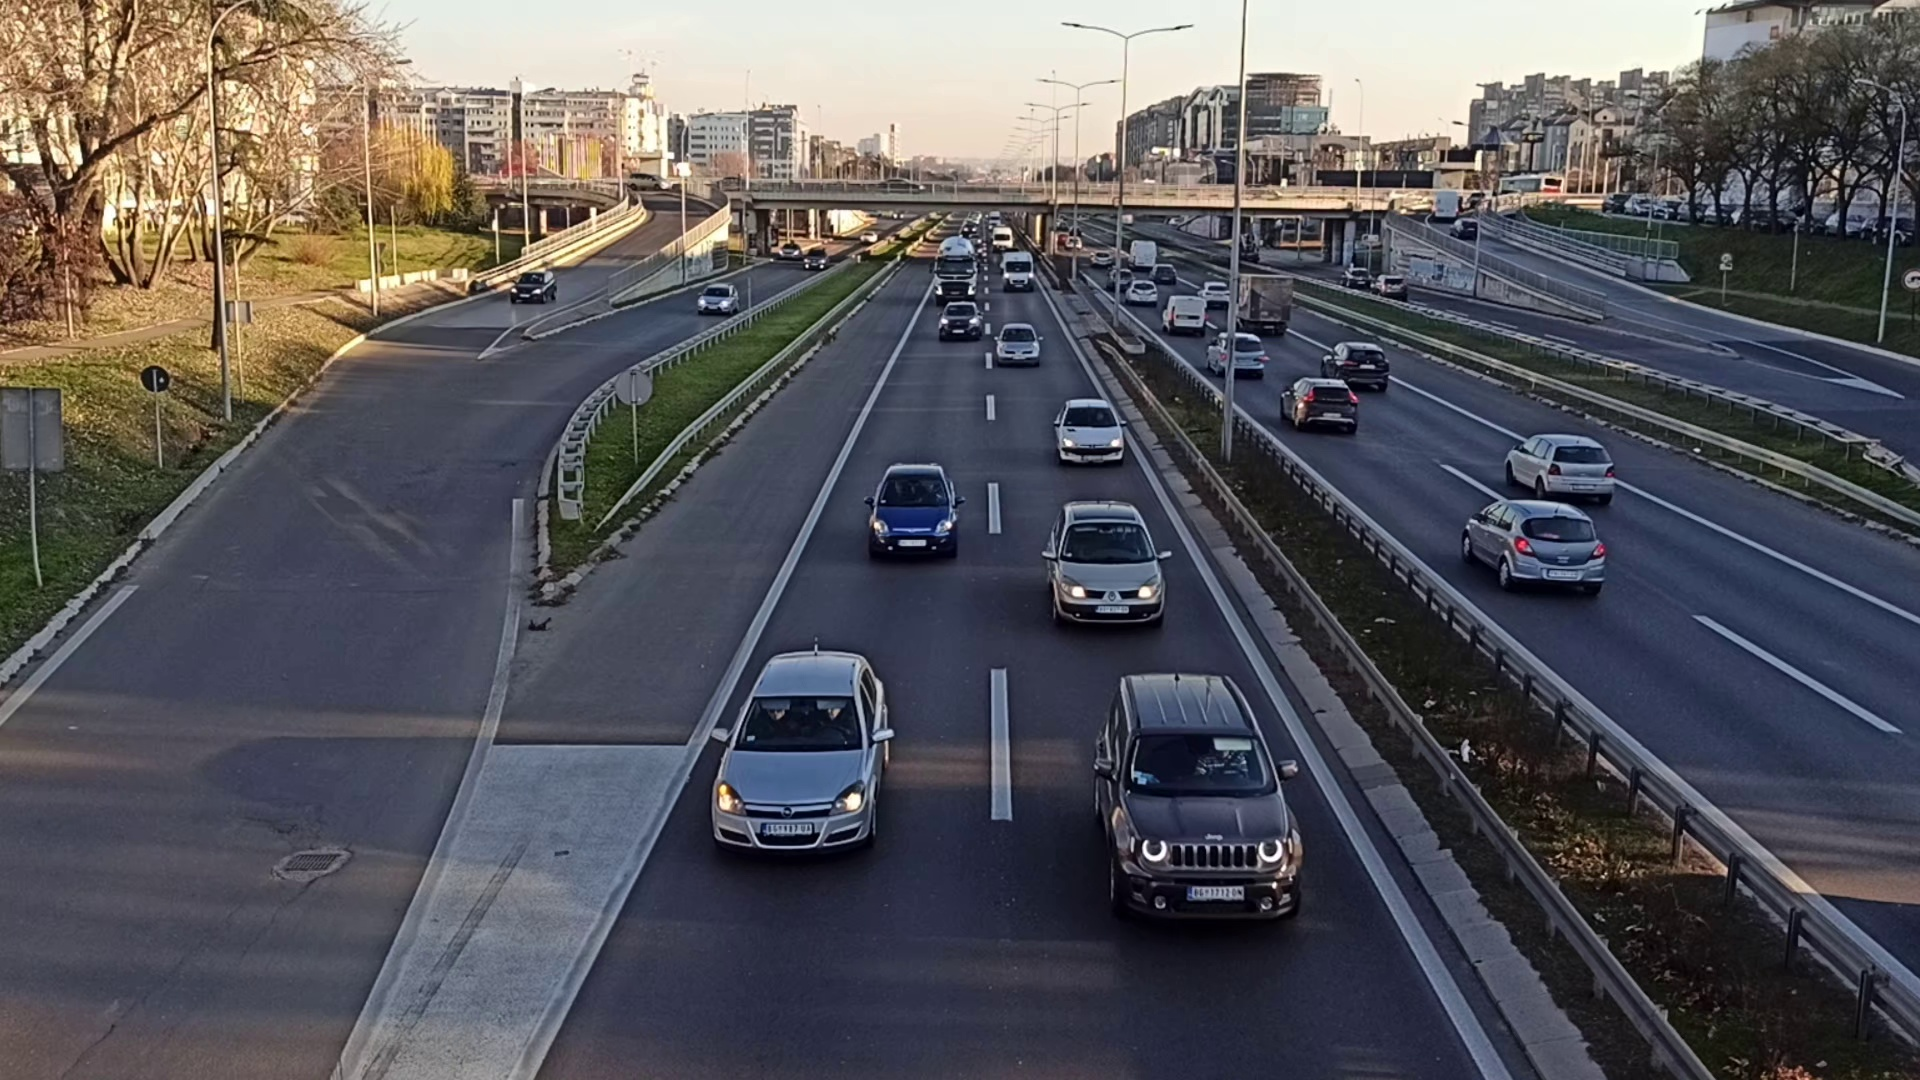car: (1091, 669, 1302, 924), (708, 646, 890, 848), (1042, 495, 1168, 630), (1461, 498, 1605, 593), (866, 463, 960, 560), (1505, 434, 1614, 501), (1054, 398, 1125, 469), (1279, 376, 1360, 434), (1320, 340, 1390, 390), (1208, 334, 1266, 378), (996, 324, 1040, 365), (1162, 294, 1205, 334), (939, 301, 981, 339), (512, 270, 555, 303), (696, 284, 737, 313), (1127, 280, 1155, 303)
truck: (934, 237, 976, 305)
van: (1000, 251, 1036, 291)
